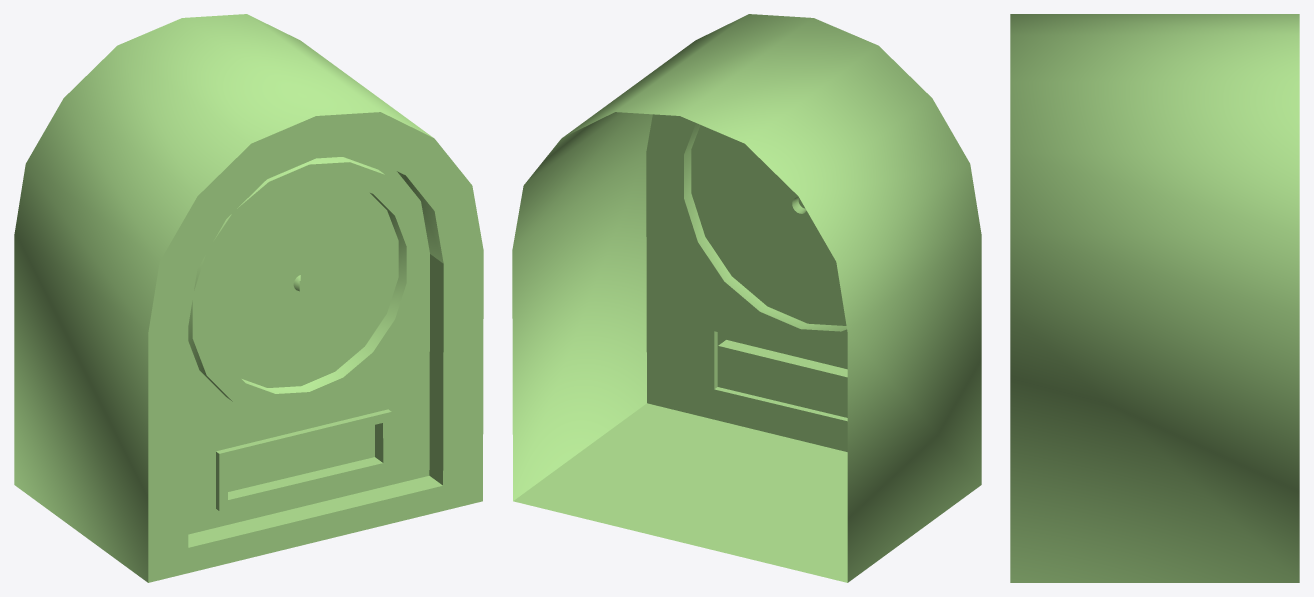
Rendered from station_roof_clock.fbx.
3 views of the same model, side by side, from view 1: azimuth 30°, elevation 25°; view 2: azimuth 150°, elevation 25°; view 3: azimuth 270°, elevation 25° (orthographic). The views are drawn at different scales.
Parts seen in each view (by area): view 1: clock; view 2: clock; view 3: clock.
Part boxes in pixels (<box>): clock: <box>14,14,483,582</box>; clock: <box>512,14,981,582</box>; clock: <box>1010,14,1299,582</box>.
Size of the model in its own units: 1.94 by 2.35 by 1.34.
